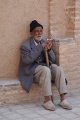male: (27, 22, 45, 47)
